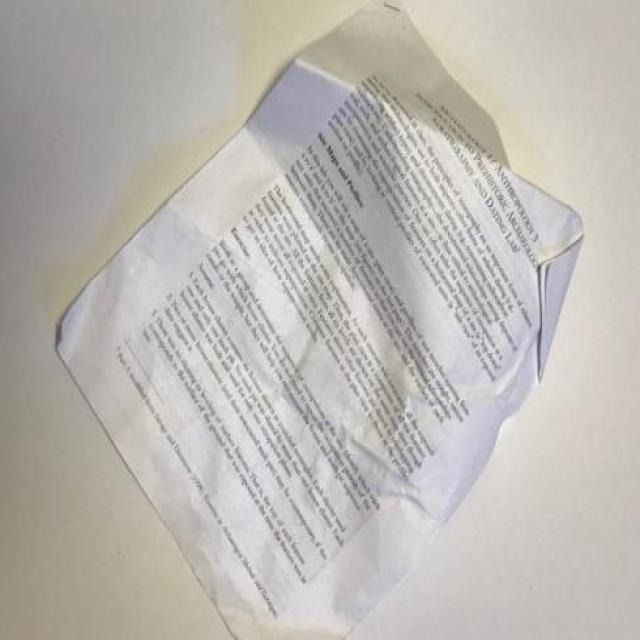kertas: (55, 0, 585, 640)
